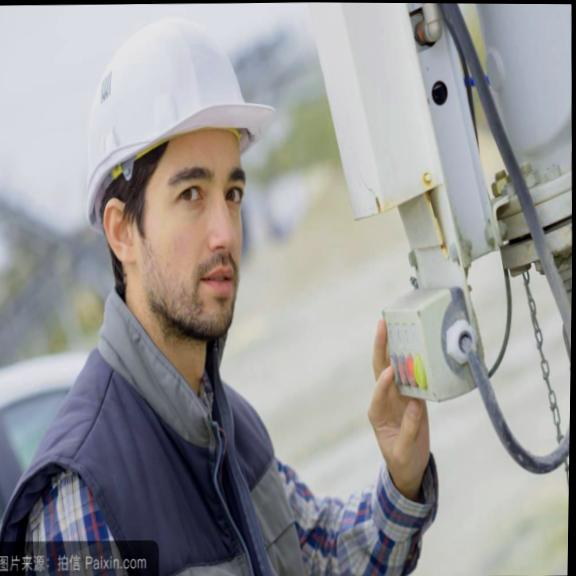no_safety_vest: (48, 280, 294, 542)
